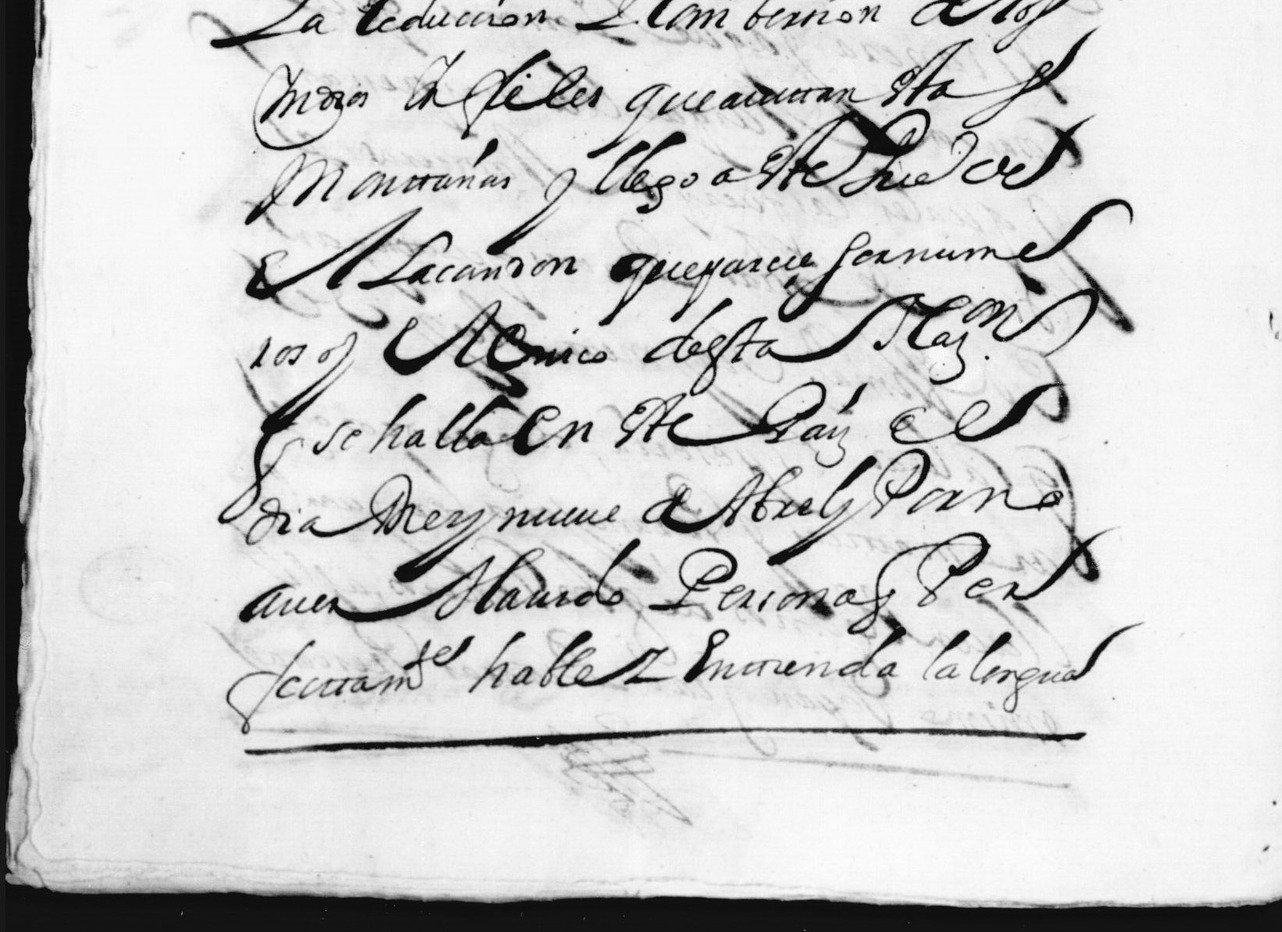lacandon: (358, 230, 577, 290)
